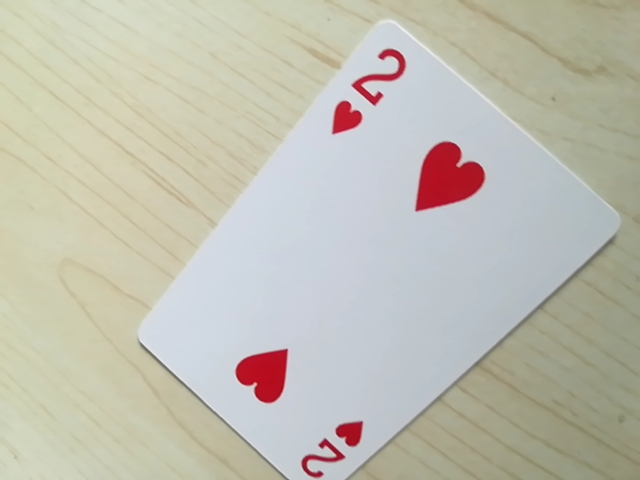hx 2: (331, 40, 410, 136), (290, 420, 368, 480)
